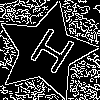H: (21, 26, 78, 84)
